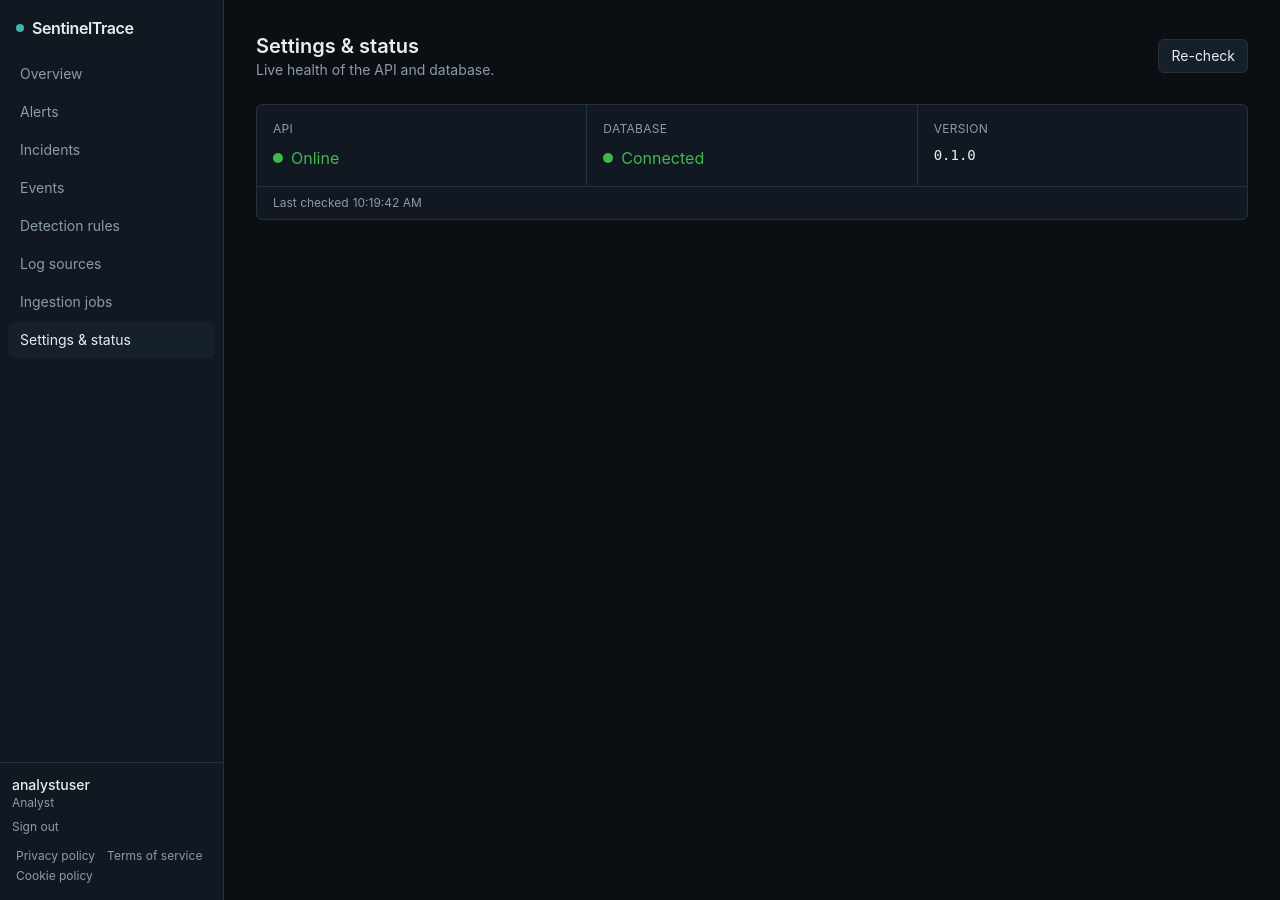
App authentication flow › signs out with the CSRF header and returns to login
Expected: the heading "Settings & status" is shown, x1=256 y1=34 x2=419 y2=58
Click the button "Sign out".
click(35, 827)  # box x1=12 y1=819 x2=59 y2=835
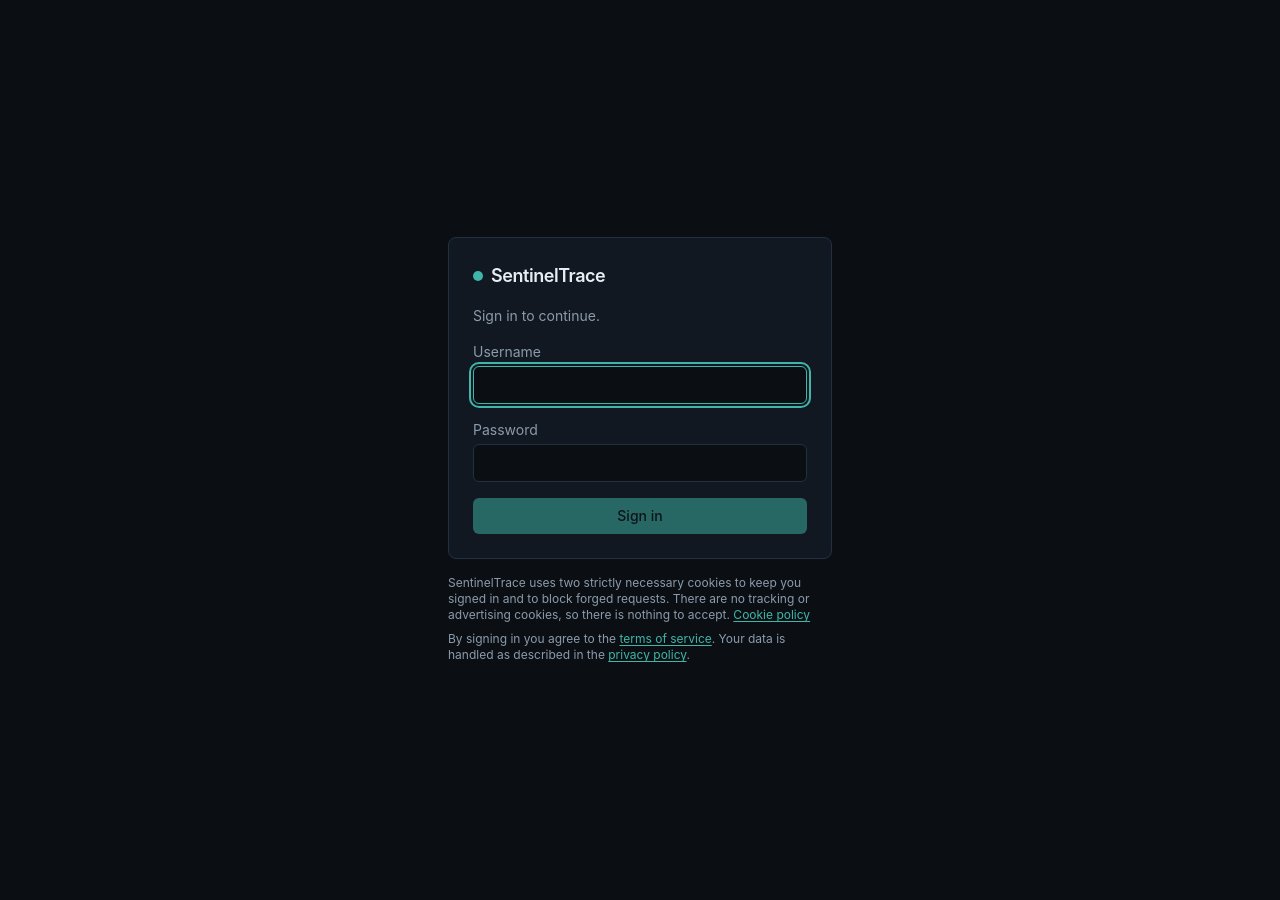
Result: the button "Sign in" is shown at x1=473 y1=498 x2=807 y2=534
